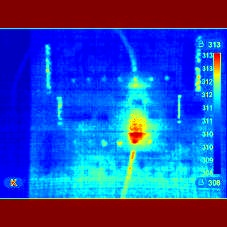High: (118, 114, 164, 159)
